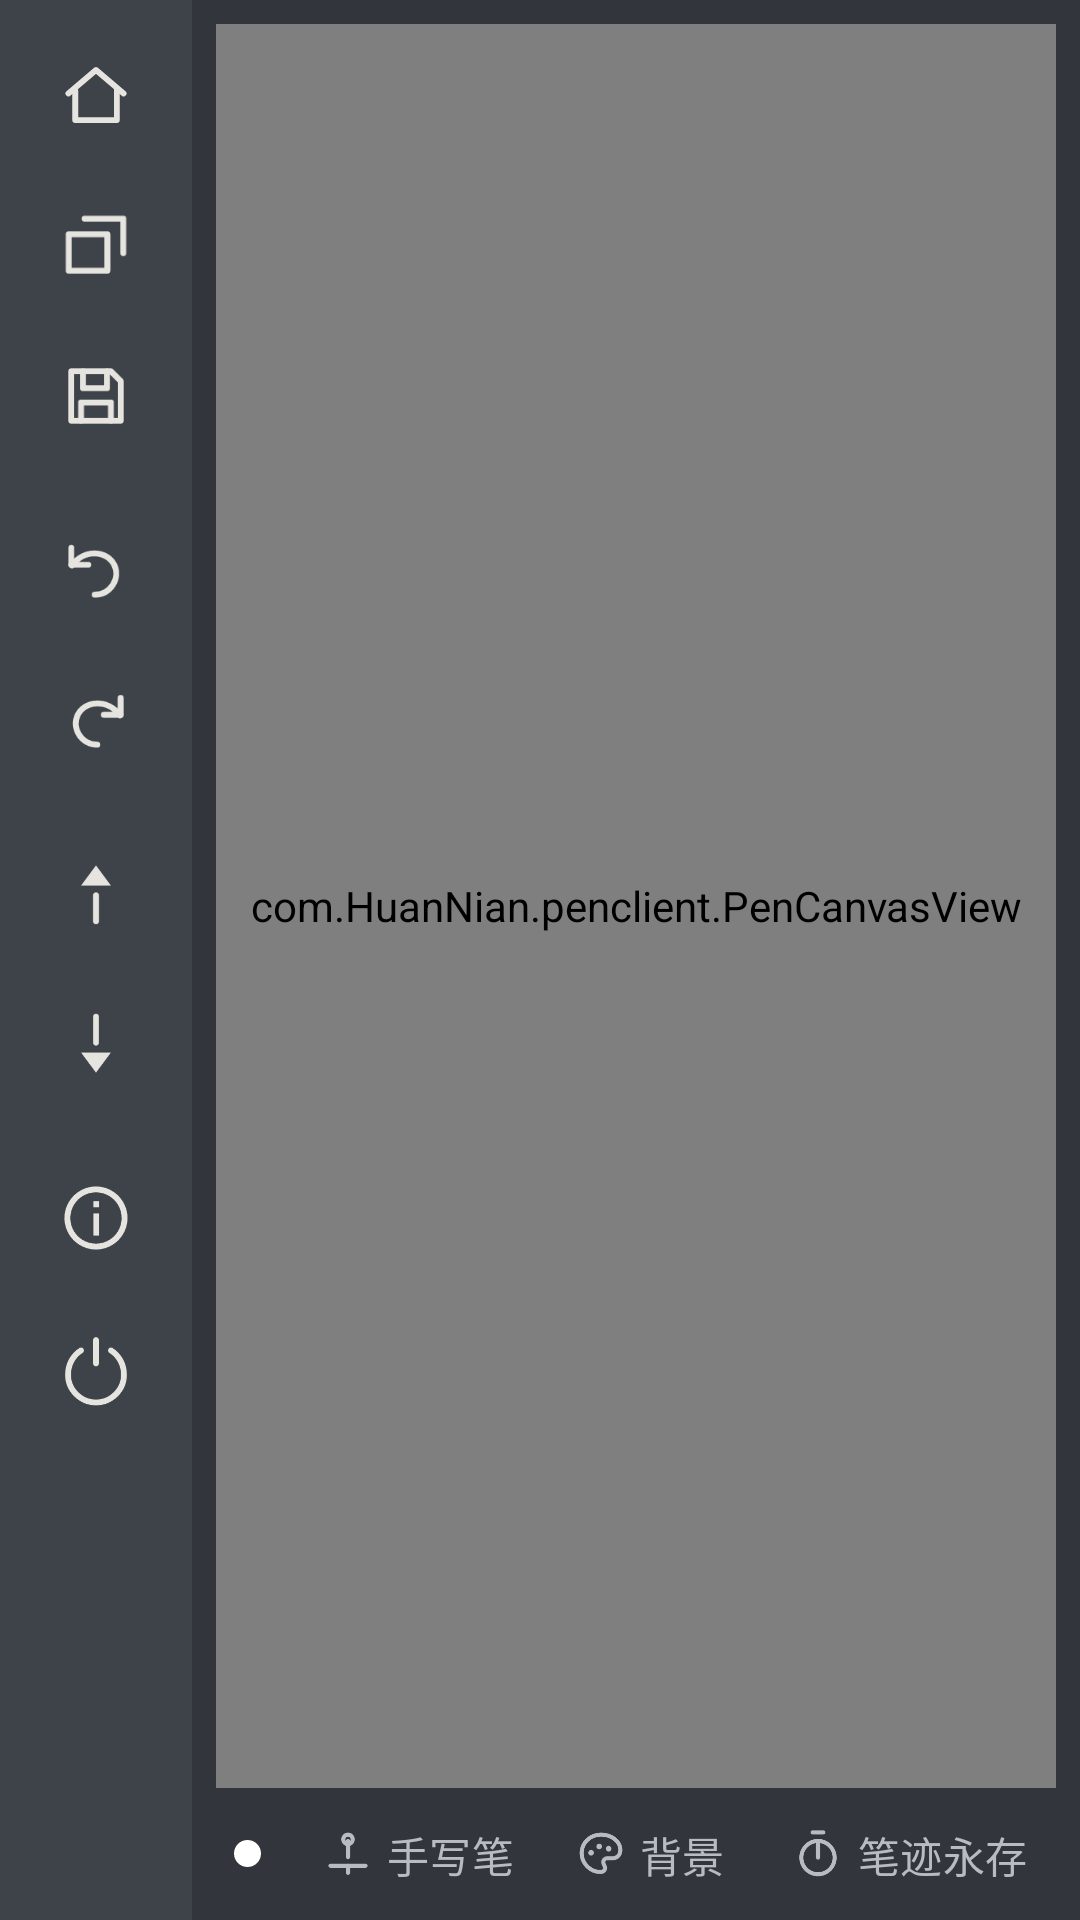

Icon bounding boxes for this 1080*1920 phone screenshot, format (x1, y1, x2, y2):
保存: (68, 368, 124, 424)
取消撤销: (72, 695, 124, 748)
向上滚动: (81, 866, 111, 924)
向下滚动: (81, 1013, 111, 1073)
多任务: (65, 215, 127, 274)
撤销: (68, 544, 119, 598)
桌面: (65, 67, 127, 123)
详情: (64, 1186, 128, 1250)
退出: (65, 1337, 127, 1406)
